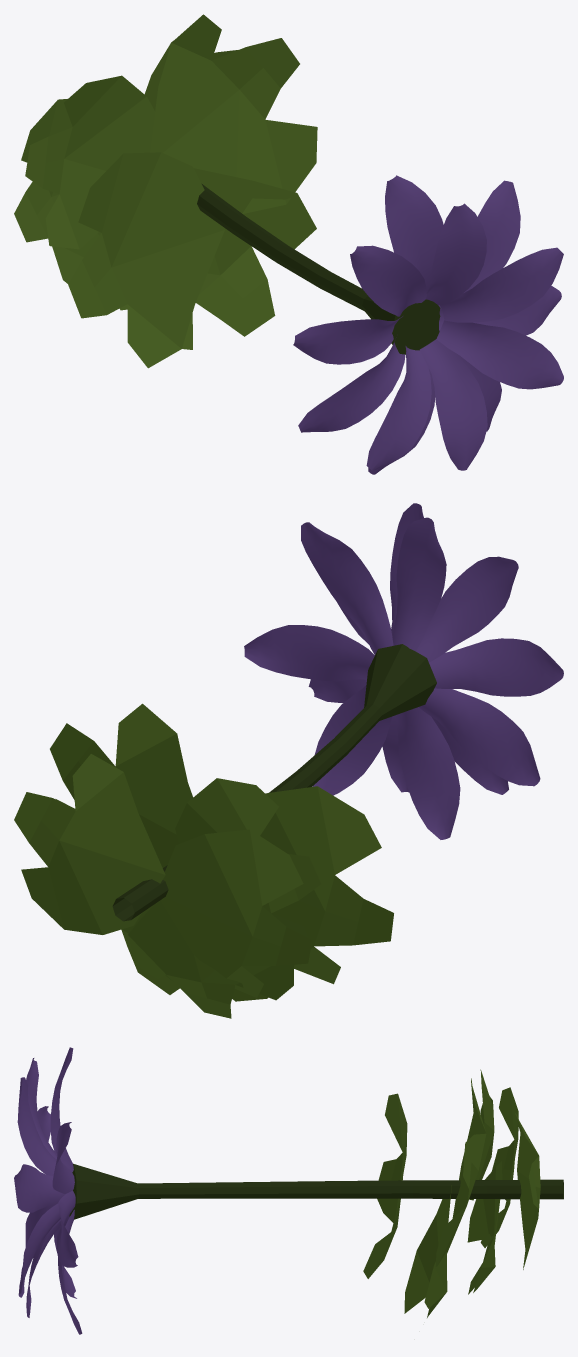
The model's file is Anemoon_short.dae.
3 views of the same model, one above another, from view 1: azimuth 30°, elevation 25°; view 2: azimuth 150°, elevation 25°; view 3: azimuth 270°, elevation 25° (orthographic). The views are drawn at different scales.
Parts seen in each view (by area): view 1: tiger1Flower, polySurface10, polySurface13, polySurface15, polySurface14, tiger1Main, polySurface16, polySurface12, polySurface3; view 2: tiger1Flower, polySurface3, polySurface16, polySurface10, polySurface13, tiger1Main, polySurface12, polySurface15, polySurface14; view 3: tiger1Flower, tiger1Main, polySurface14, polySurface10, polySurface13, polySurface3, polySurface12, polySurface16, polySurface15.
Boxes of the visible parts, <box> form: tiger1Flower: <box>293,175,563,474</box>; polySurface10: <box>68,152,224,368</box>; polySurface13: <box>150,14,317,213</box>; polySurface15: <box>25,75,154,249</box>; polySurface14: <box>182,168,316,349</box>; tiger1Main: <box>197,183,440,354</box>; polySurface16: <box>14,99,72,242</box>; polySurface12: <box>52,232,127,310</box>; polySurface3: <box>144,40,237,111</box>; tiger1Flower: <box>244,503,563,839</box>; polySurface3: <box>14,754,165,934</box>; polySurface16: <box>160,829,311,997</box>; polySurface10: <box>260,786,393,984</box>; polySurface13: <box>50,703,192,867</box>; tiger1Main: <box>112,644,436,921</box>; polySurface12: <box>128,900,293,1018</box>; polySurface15: <box>175,778,321,946</box>; polySurface14: <box>121,905,268,1001</box>; tiger1Flower: <box>14,1047,82,1334</box>; tiger1Main: <box>69,1163,563,1219</box>; polySurface14: <box>404,1185,451,1317</box>; polySurface10: <box>363,1093,407,1278</box>; polySurface13: <box>436,1078,486,1266</box>; polySurface3: <box>515,1113,540,1269</box>; polySurface12: <box>467,1161,502,1294</box>; polySurface16: <box>480,1087,518,1247</box>; polySurface15: <box>469,1069,494,1200</box>.
Size of the model in its own units: 8.82 by 8.39 by 15.2.
